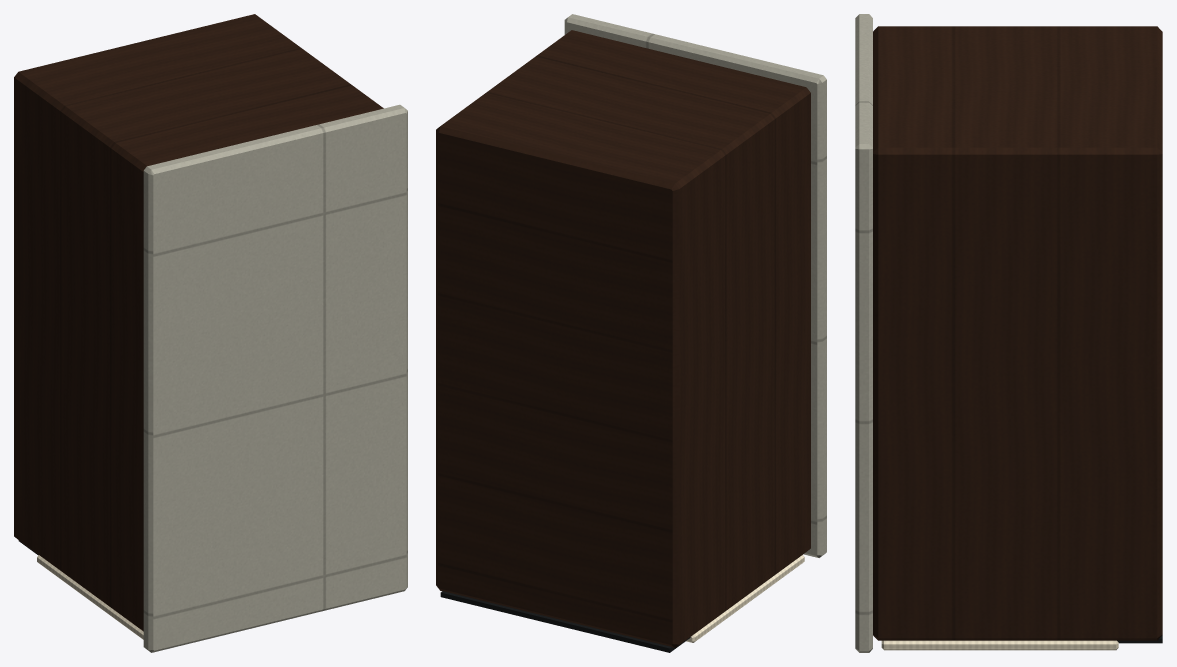
The model's file is kitchen_island.obj.
3 views of the same model, side by side, from view 1: azimuth 30°, elevation 25°; view 2: azimuth 150°, elevation 25°; view 3: azimuth 270°, elevation 25° (orthographic). The views are drawn at different scales.
Parts seen in each view (by area): view 1: kitchen_island_tile, kitchen_island_walnut, kitchen_island_linen; view 2: kitchen_island_walnut, kitchen_island_tile, kitchen_island_charcoal, kitchen_island_linen; view 3: kitchen_island_walnut, kitchen_island_tile, kitchen_island_linen.
Part boxes in pixels (x1,y1,x2,y2): kitchen_island_tile: (143, 104, 407, 652); kitchen_island_walnut: (14, 14, 383, 631); kitchen_island_linen: (37, 555, 143, 639); kitchen_island_walnut: (436, 30, 810, 647); kitchen_island_tile: (564, 14, 826, 557); kitchen_island_charcoal: (440, 591, 690, 652); kitchen_island_linen: (686, 555, 804, 642); kitchen_island_walnut: (873, 26, 1162, 640); kitchen_island_tile: (855, 14, 872, 652); kitchen_island_linen: (881, 640, 1118, 650).
Bounding box in the file's own units: 36 × 65.1 × 35.
Materials: 5 (5 with a texture image).
